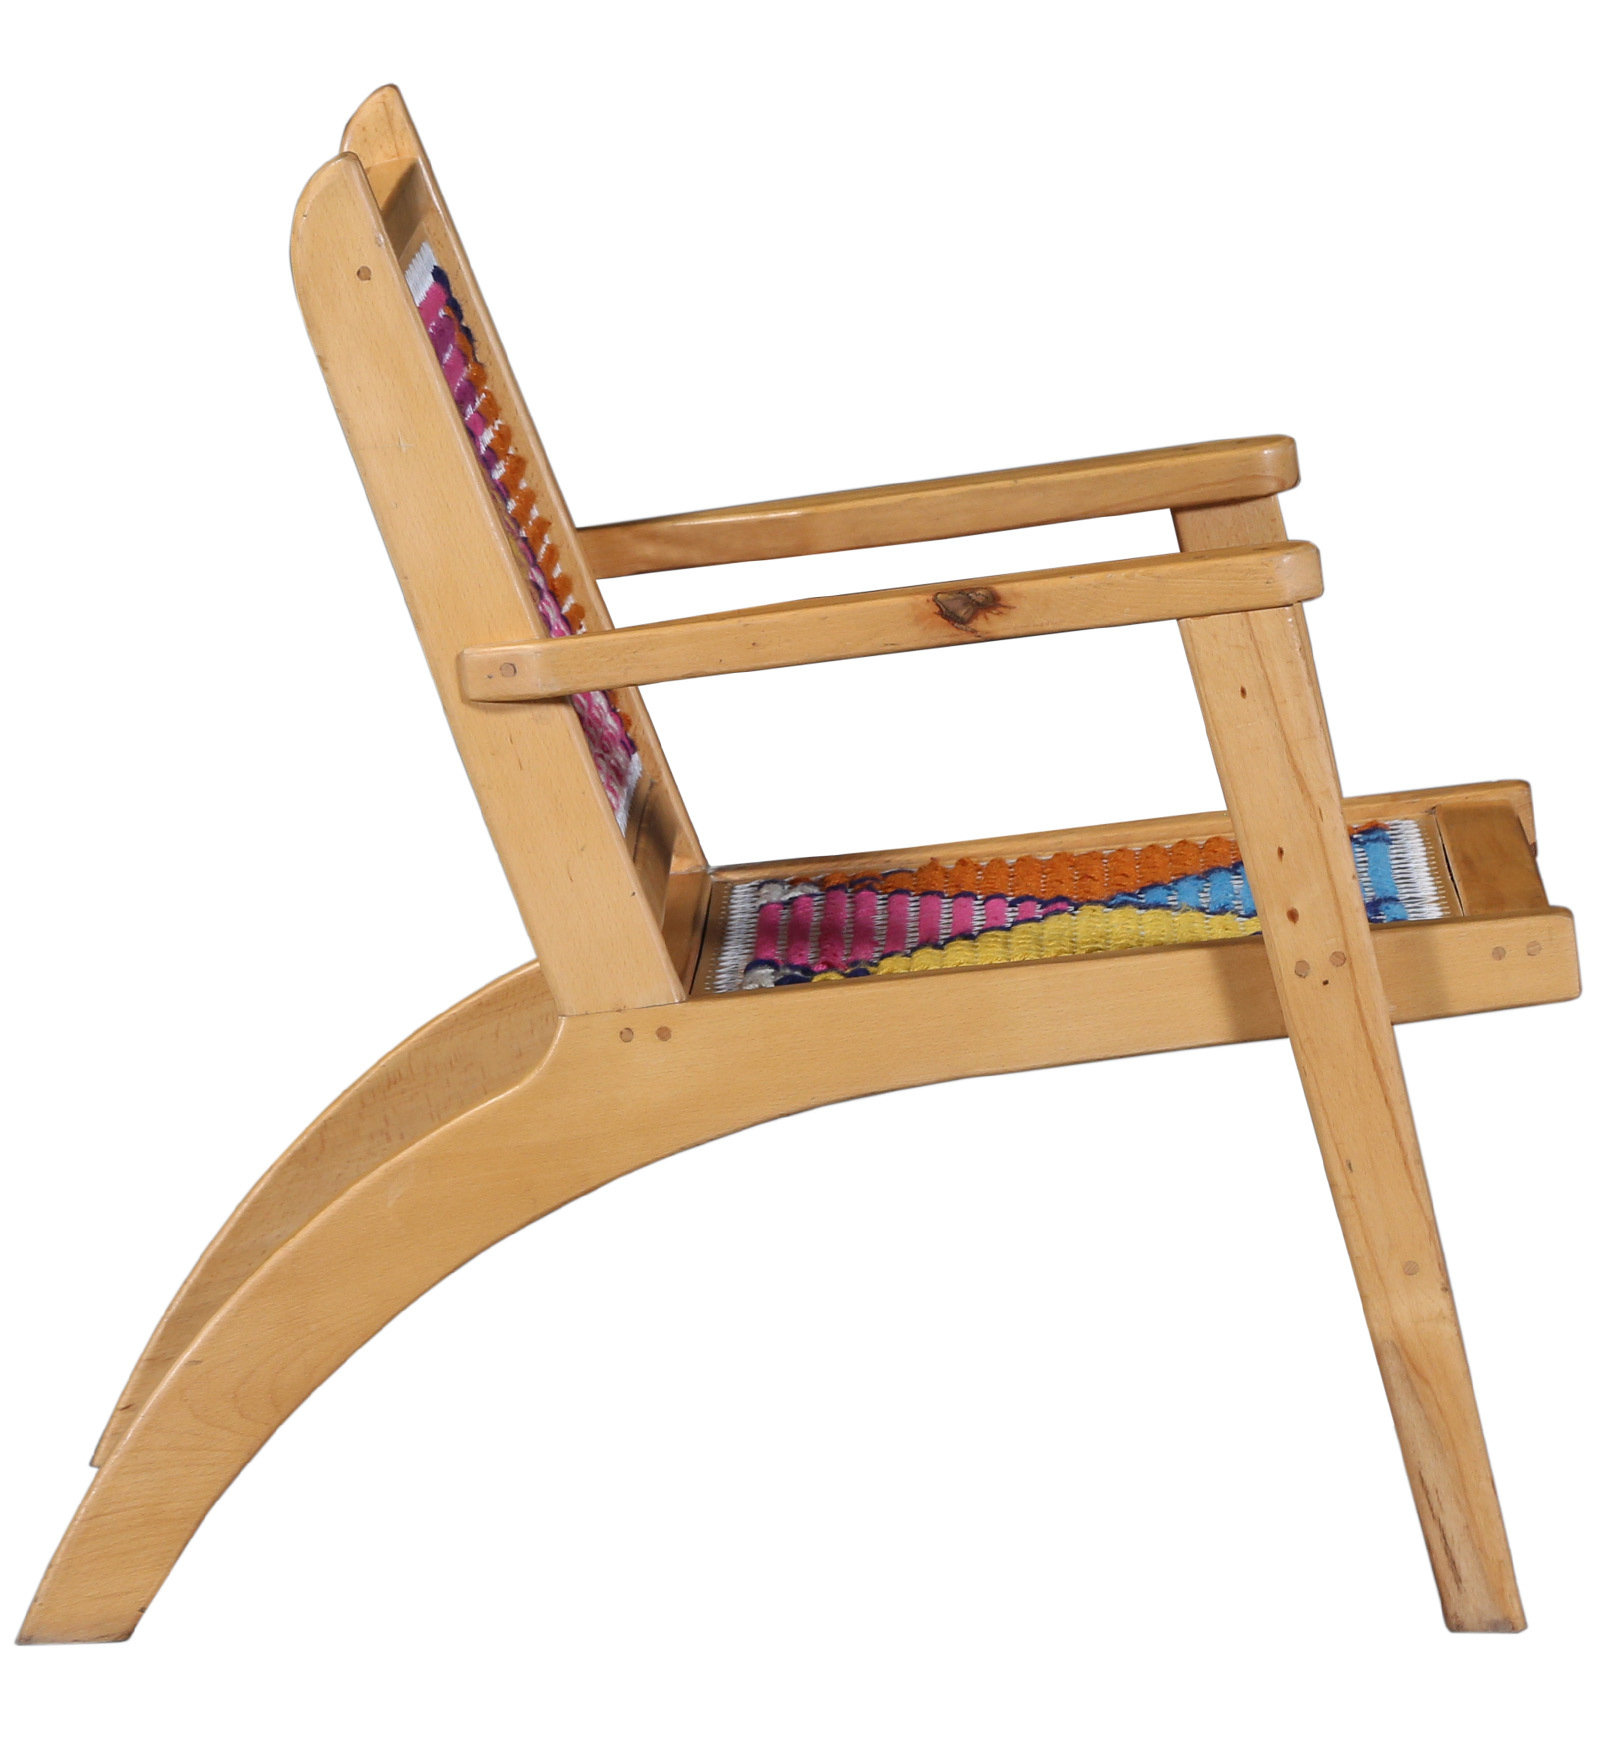Cara Arm Chair in in Multi- Color Finish by Bohemiana: (63, 71, 1582, 1657)
